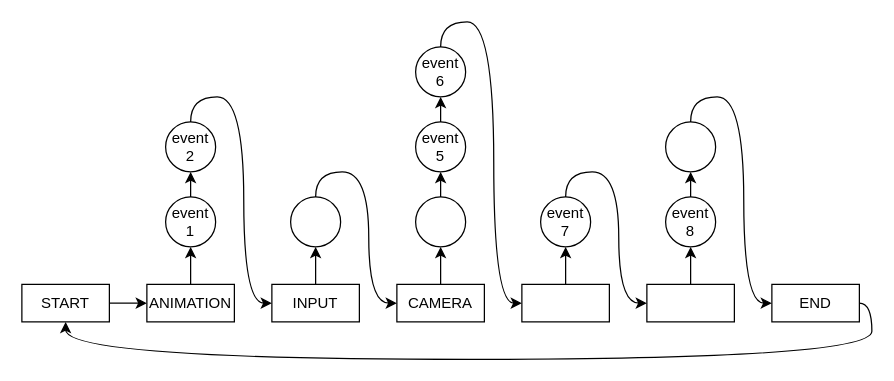
Some shapes in this 894 by 381 pixel diagram are drawn without their labels. The shapes that lost their labels are listed below. From the top down, each one's centre as x and y in pixels, then its label:
At pixel 690 146: "event 9".
At pixel 315 221: "event 3".
At pixel 440 221: "event 4".
At pixel 565 302: "GRAPHICS".
At pixel 690 302: "SOUNDS".
